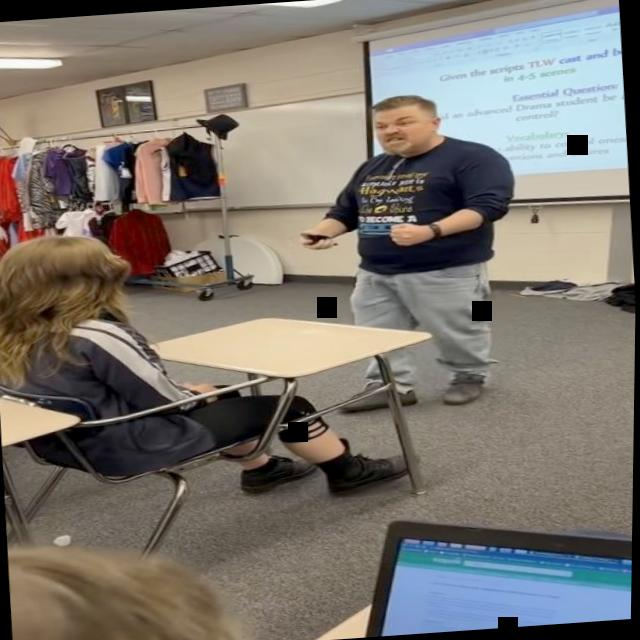NO-Mask: (373, 99, 445, 158)
